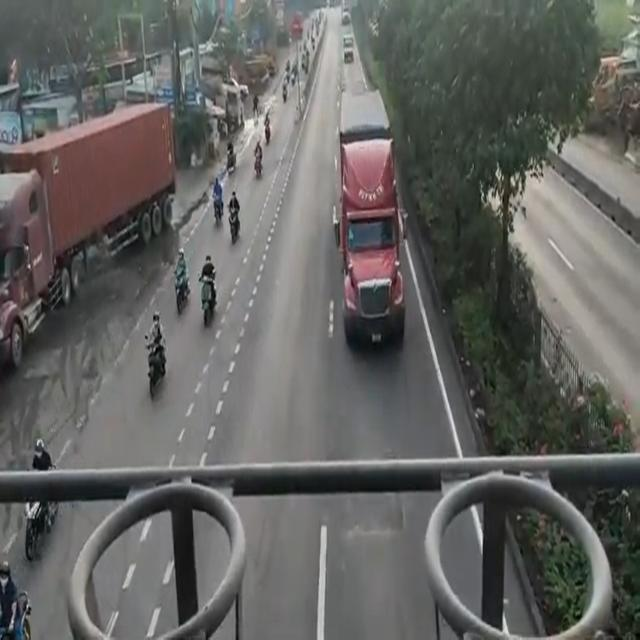motorbike: (0, 544, 31, 640), (143, 315, 163, 390), (169, 240, 188, 315), (199, 262, 219, 332), (227, 192, 245, 247), (210, 176, 227, 234)
truck: (0, 90, 166, 318), (341, 88, 407, 344)
